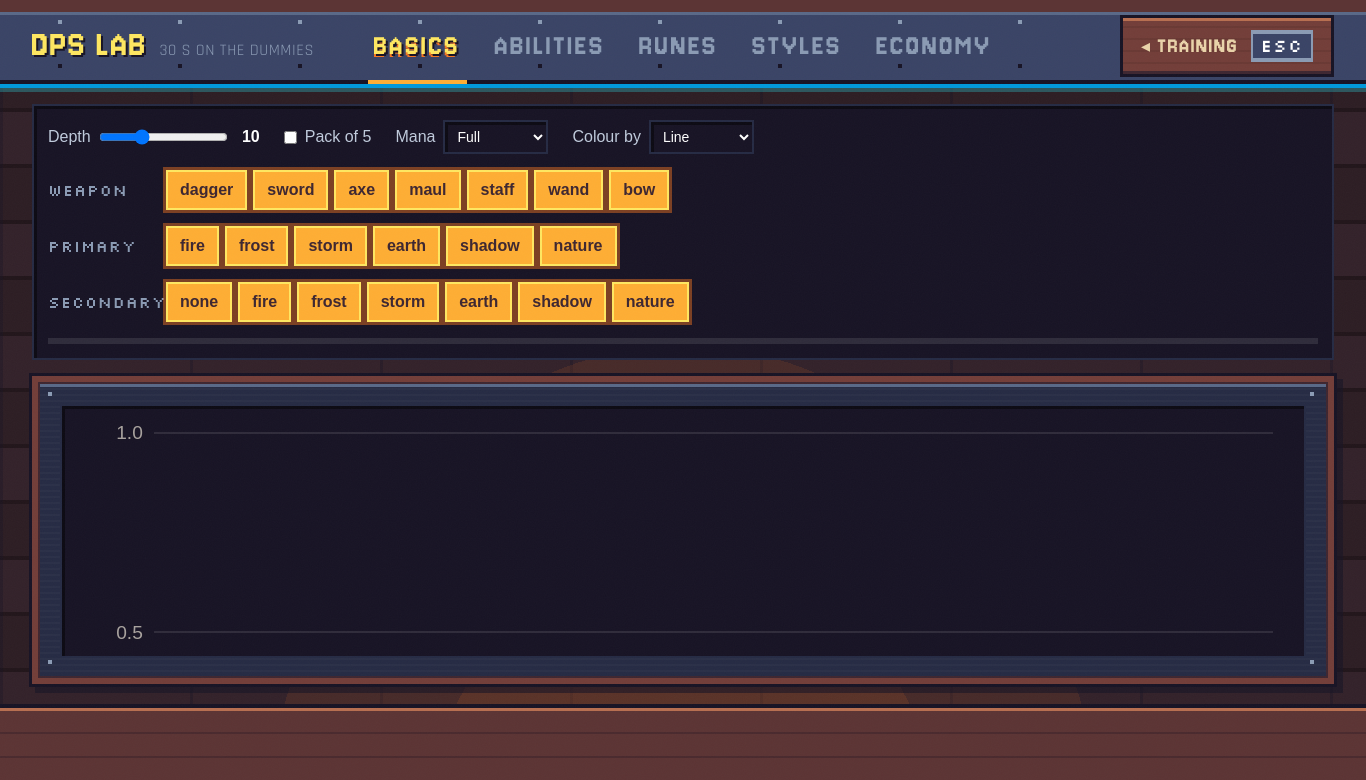
Scenario: DelveLab › the Mana select runs the grid starved or supported, each kept apart for the session
The width and height of the screenshot is (1366, 780).
Select "Starved" in the dropdown with test id "lab-mana" at point(496, 137), box [443, 120, 548, 154]
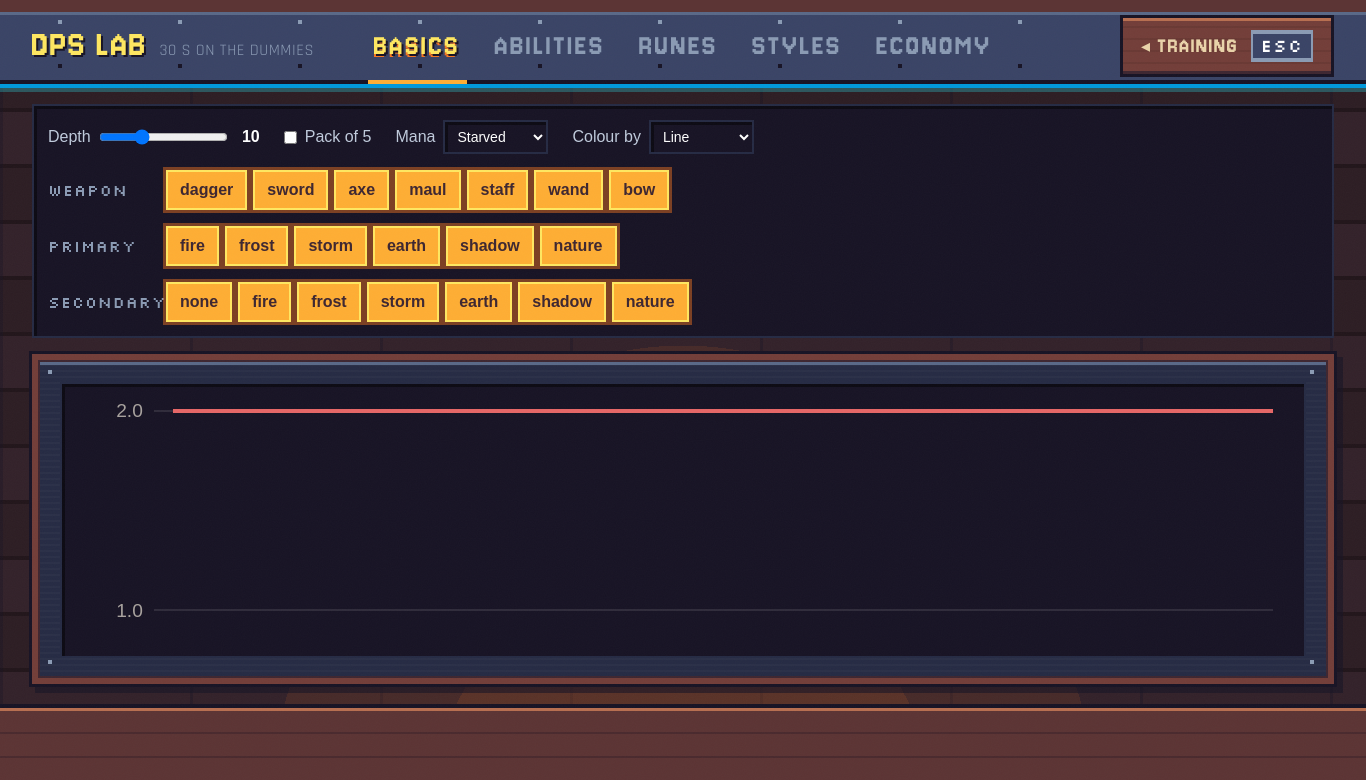
Expected: the element with test id "lab-progress" is gone
Select "Supported" in the dropdown with test id "lab-mana" at point(496, 137), box [443, 120, 548, 154]
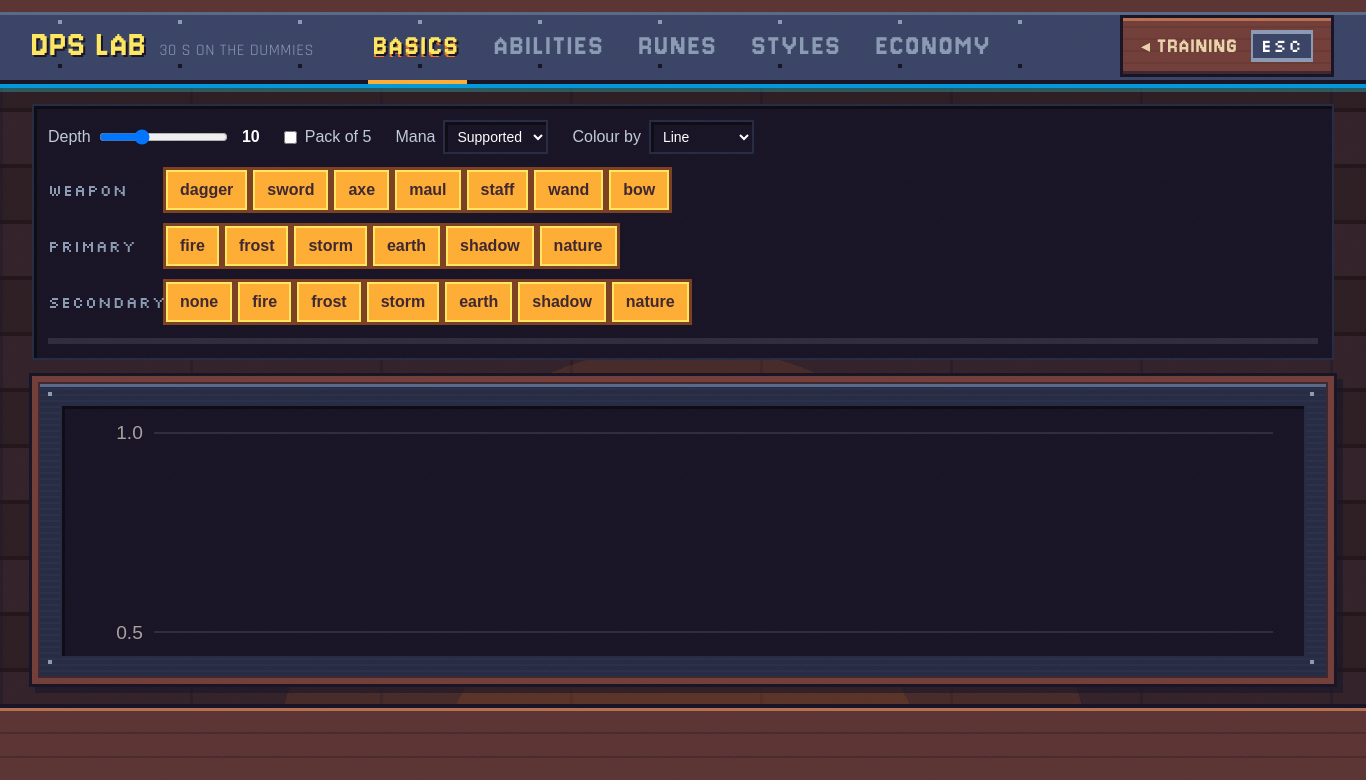
Expected: the element with test id "lab-progress" is shown, [48, 338, 1318, 344]
# Back to starved: the session kept that run, so no worker is needed.
Select "Starved" in the dropdown with test id "lab-mana" at point(496, 137), box [443, 120, 548, 154]
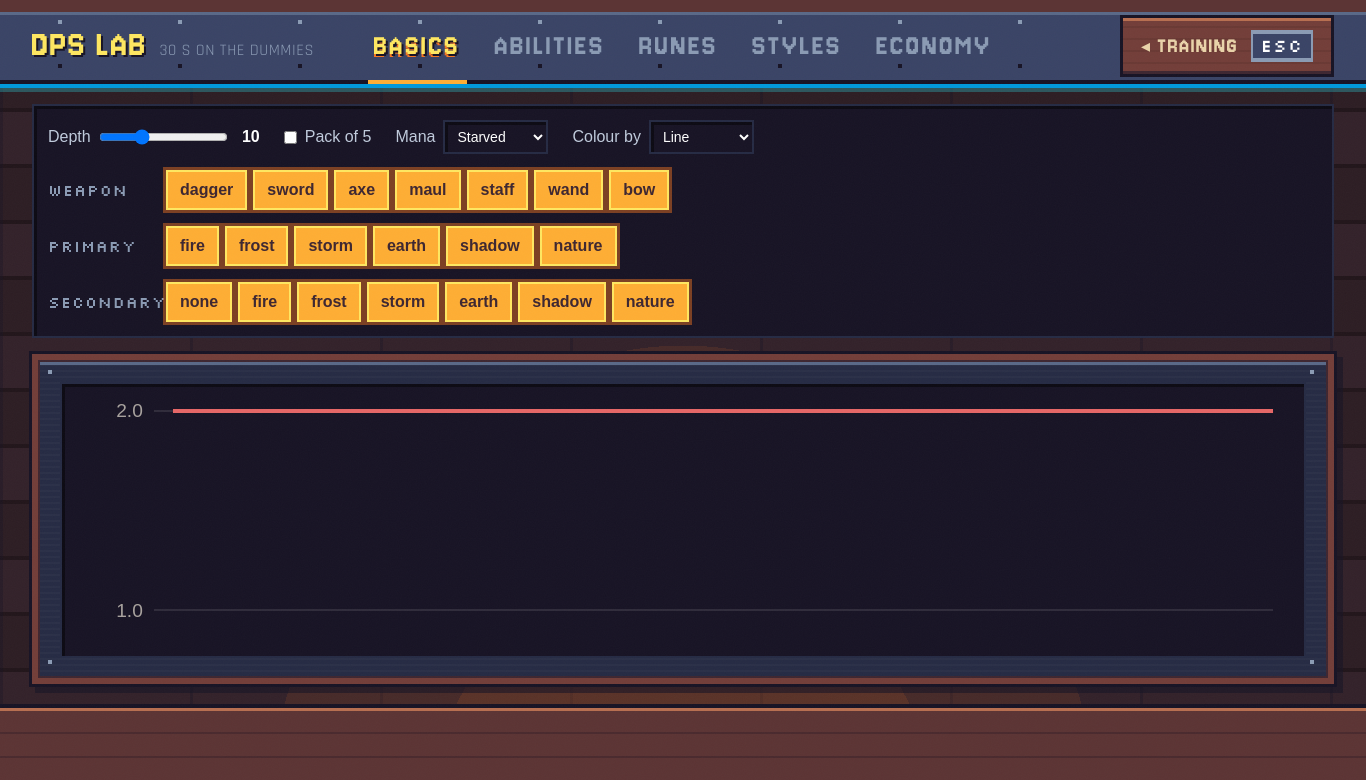
Expected: the element with test id "lab-progress" is gone
